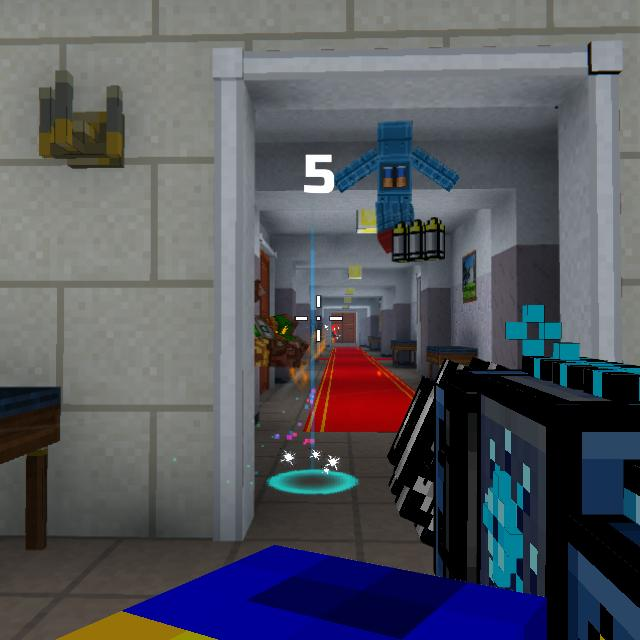Enemy: (332, 330, 336, 343)
